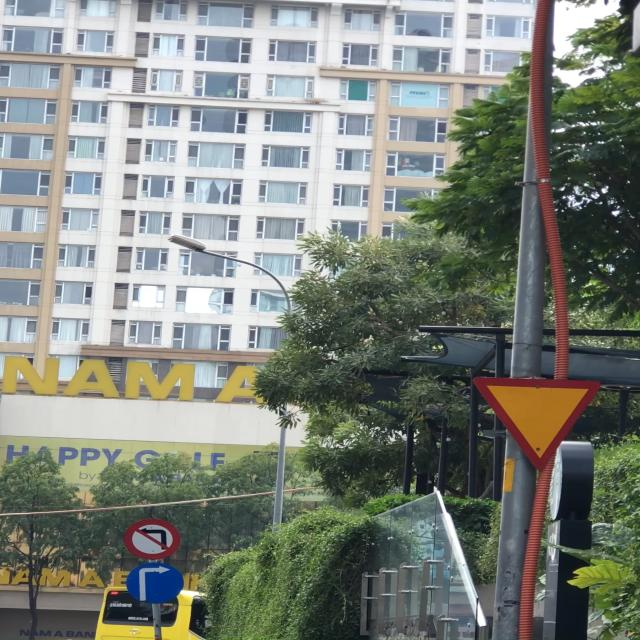Bien bao cam re trai: (123, 519, 184, 561)
Bien bao giao nhau voi duong uu tien: (467, 371, 609, 478)
Bien bao huong di phai theo: (127, 561, 192, 608)
